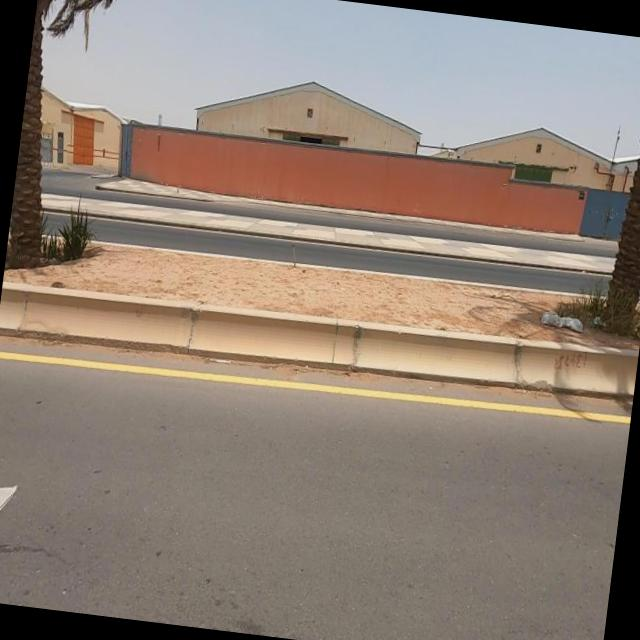debris: (498, 268, 630, 368)
